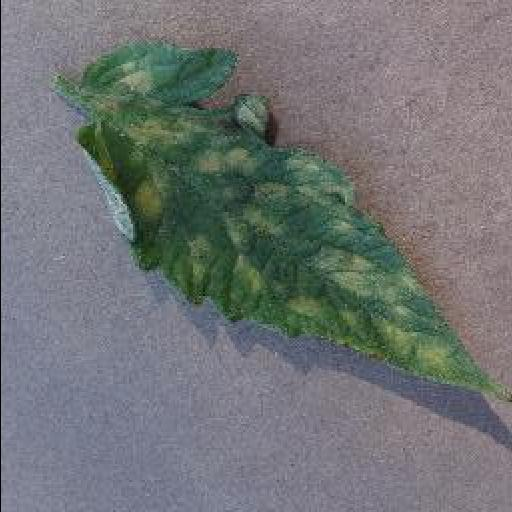disease_tomato: (78, 38, 508, 402)
